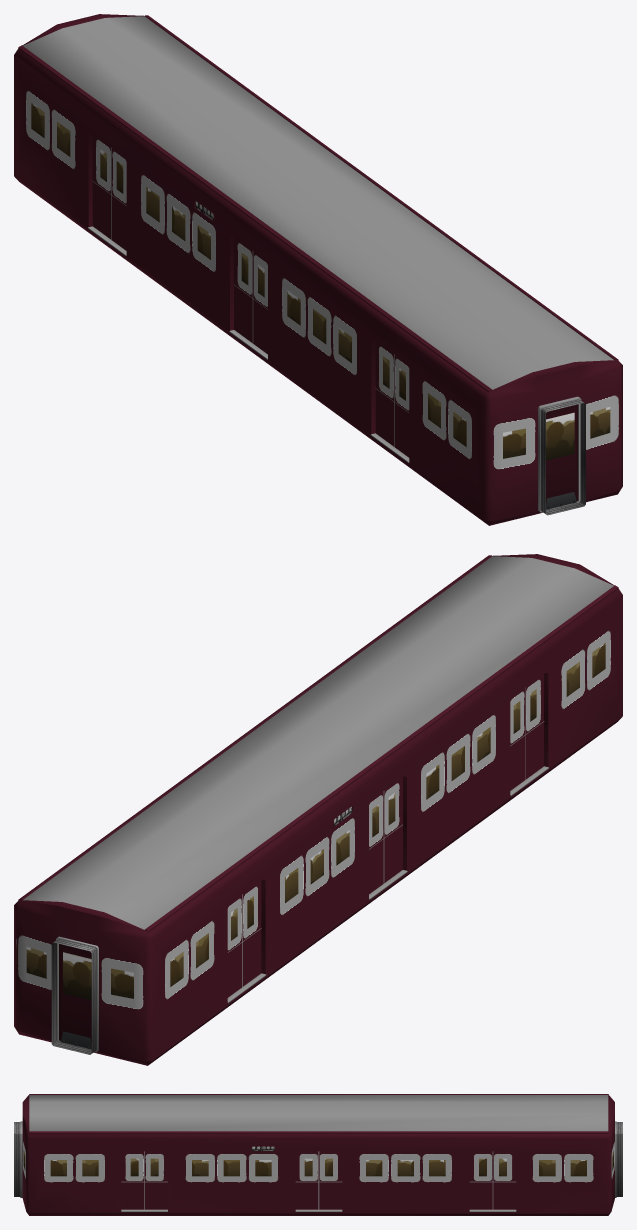
3 renders of one model, top to bottom at view 1: azimuth 30°, elevation 25°; view 2: azimuth 150°, elevation 25°; view 3: azimuth 270°, elevation 25°, orthographic. The views are drawn at different scales.
Parts seen in each view (by area): view 1: obj2; view 2: obj2; view 3: obj2.
Boxes of the visible parts, bbox=[...] form: obj2: bbox=[14, 14, 622, 525]; obj2: bbox=[14, 554, 622, 1065]; obj2: bbox=[14, 1094, 622, 1215].
Bounding box in the file's own units: 6.59 × 6.42 × 40.2.
11 materials, 10 textured.
